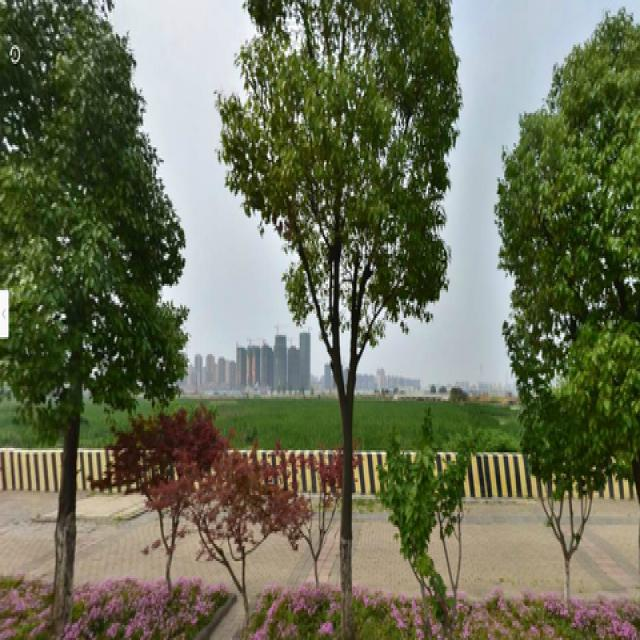cinn: (9, 21, 131, 598)
